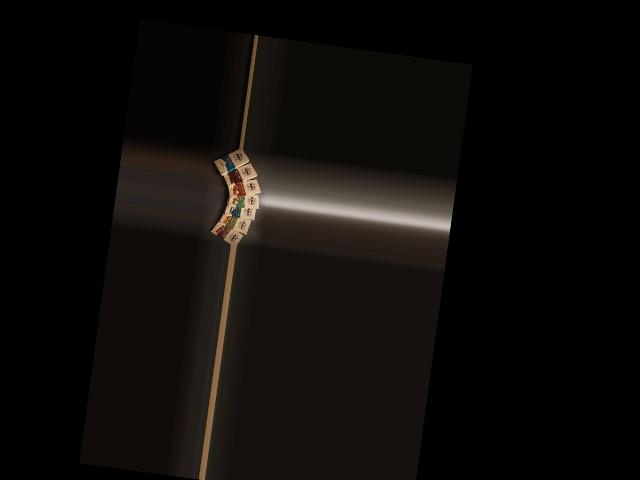chocolate: (209, 146, 251, 179)
